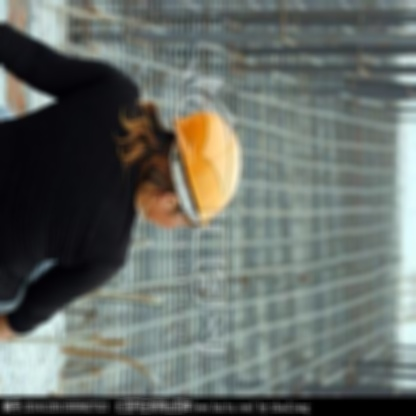yellow: (173, 100, 244, 232)
